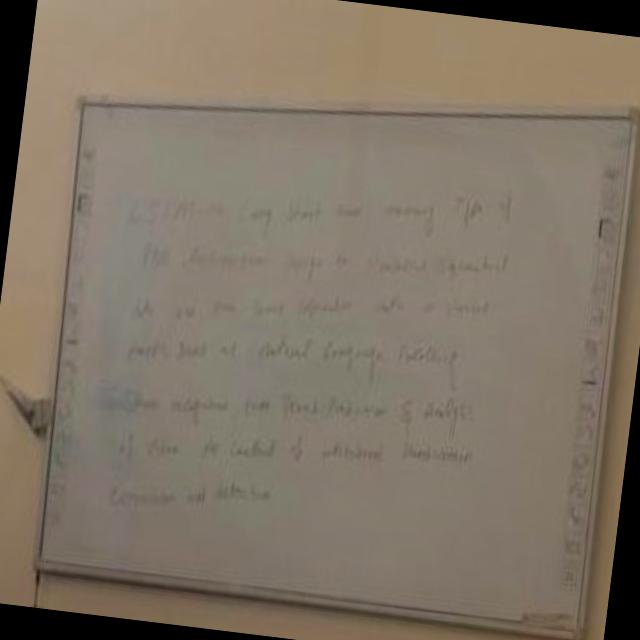White-board: (35, 101, 635, 637)
